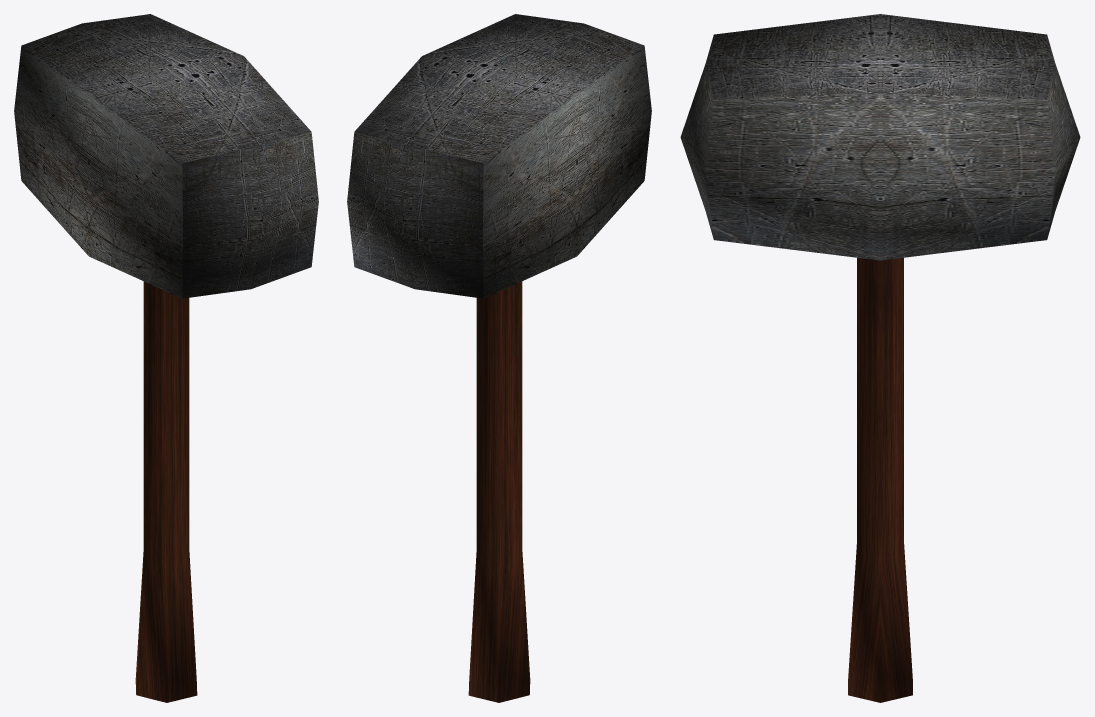
The model's file is hammer.fbx.
The picture shows the model from 3 angles, left to right: view 1: azimuth 30°, elevation 25°; view 2: azimuth 150°, elevation 25°; view 3: azimuth 270°, elevation 25°; orthographic projection. The views are drawn at different scales.
Parts seen in each view (by area): view 1: hammer; view 2: hammer; view 3: hammer.
Part boxes in pixels (x1=…): hammer: x1=14, y1=14, x2=318, y2=702; hammer: x1=347, y1=14, x2=651, y2=702; hammer: x1=680, y1=14, x2=1080, y2=702.
Size of the model in its own units: 71.8 by 271 by 155.
